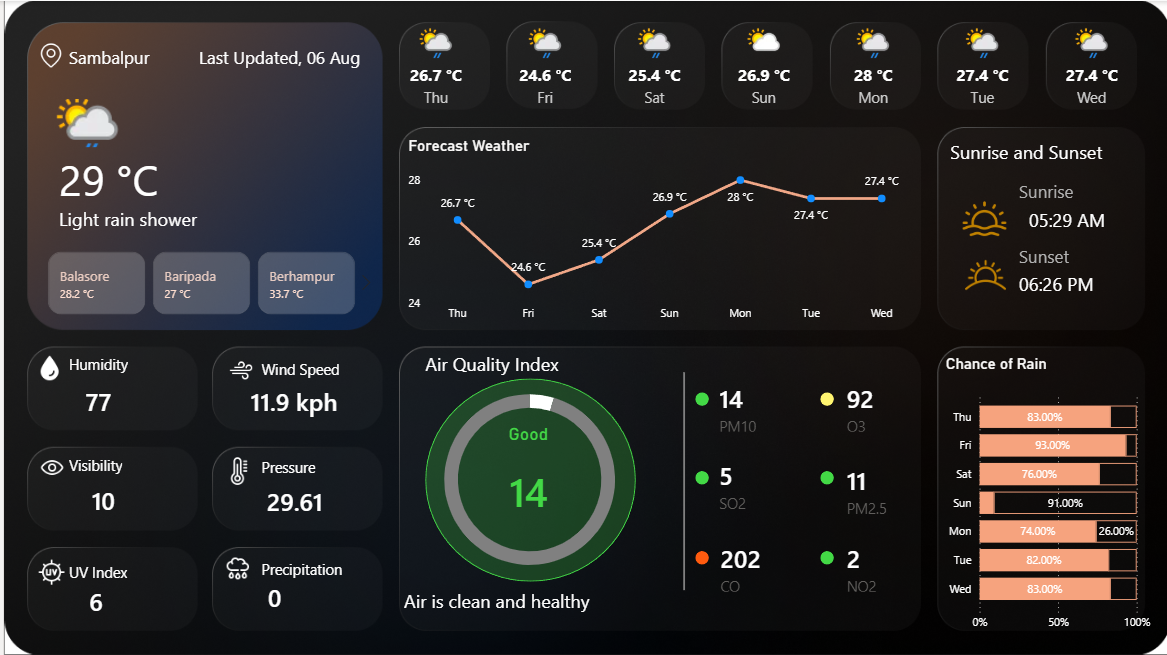

What the dashboard file says about the page in this screenshot:
{"tool":"powerbi","page":{"name":"Page 1","canvas":[1280,720],"ordinal":0},"visuals":[{"type":"shape","box":[462.3,414.8,231.1,223],"z":0},{"type":"advancedSlicerVisual","fields":{"Values":["Locations.location.name"]},"box":[23.3,270.3,389.7,79.6],"z":1000},{"type":"shape","box":[60.4,120.8,170.2,149.6],"z":2000},{"type":"shape","box":[60.4,222.3,299.1,32.9],"z":3000},{"type":"shape","box":[196.2,45.3,194.9,32.9],"z":4000},{"type":"shape","box":[71.4,45.3,171.5,32.9],"z":5000},{"type":"image","box":[38.4,42.5,26.1,34.3],"z":6000},{"type":"cardVisual","fields":{"Data":["Min(Current_data.current.condition.icon)"]},"box":[23.3,90.6,133.1,87.8],"z":7000},{"type":"image","box":[38.4,495.4,28.8,32.9],"z":8000},{"type":"shape","box":[71.4,492.6,194.9,32.9],"z":9000},{"type":"image","box":[35.7,387,28.8,31.6],"z":10000},{"type":"shape","box":[71.4,381.5,194.9,32.9],"z":11000},{"type":"image","box":[37,610.6,30.2,32.9],"z":12000},{"type":"image","box":[247,388.3,26.1,34.3],"z":13000},{"type":"image","box":[242.9,500.9,30.2,30.2],"z":14000},{"type":"image","box":[241.5,606.5,30.2,32.9],"z":15000},{"type":"shape","box":[71.4,610.6,194.9,32.9],"z":16000},{"type":"shape","box":[282.7,606.5,194.9,32.9],"z":17000},{"type":"shape","box":[282.7,495.4,194.9,32.9],"z":18000},{"type":"shape","box":[282.7,387,194.9,32.9],"z":19000},{"type":"cardVisual","fields":{"Data":["Sum(Current_data.current.humidity)"]},"box":[60.4,403.4,102.9,70],"z":20000},{"type":"cardVisual","fields":{"Data":["Sum(Current_data.current.vis_km)"]},"box":[67.2,516,91.9,60.4],"z":21000},{"type":"cardVisual","fields":{"Data":["Sum(Current_data.current.uv)"]},"box":[64.5,627.1,91.9,60.4],"z":22000},{"type":"cardVisual","fields":{"Data":["_measures.Wind_Speed"]},"box":[241.5,395.2,164.7,86.4],"z":23000},{"type":"cardVisual","fields":{"Data":["Sum(Current_data.current.precip_in)"]},"box":[260.7,623,91.9,60.4],"z":24000},{"type":"cardVisual","fields":{"Data":["Sum(Current_data.current.pressure_in)"]},"box":[258.7,515.9,130.8,64.7],"z":25000},{"type":"advancedSlicerVisual","fields":{"Values":["Forcast_day.Day_Name"]},"box":[413.1,18,845.9,116.4],"z":26000},{"type":"lineChart","title":"Forecast Weather","fields":{"Y":["Sum(Forcast_day.forecast.forecastday.day.avgtemp_c)"],"Category":["Forcast_day.Day_Name"]},"box":[439.3,147.5,560.7,213.1],"z":27000},{"type":"shape","box":[1039.3,147.5,194.9,32.9],"z":28000},{"type":"shape","box":[1124.6,209.8,109.8,60.7],"z":29000},{"type":"shape","box":[1114.8,280.3,109.8,60.7],"z":30000},{"type":"shape","box":[1114.8,178.7,109.8,60.7],"z":31000},{"type":"shape","box":[1114.8,249.2,109.8,60.7],"z":32000},{"type":"image","box":[1039.3,214.8,75.4,47.5],"z":33000},{"type":"image","box":[1029.5,270.5,96.7,60.7],"z":34000},{"type":"hundredPercentStackedBarChart","title":"Chance of Rain ","fields":{"Y":["Sum(Forcast_day.forecast.forecastday.day.daily_chance_of_rain)","_measures.left_value_rain"],"Category":["Forcast_day.Day_Name"]},"box":[1029.5,388.5,234.4,311.5],"z":35000},{"type":"shape","box":[462.3,382,194.9,32.9],"z":36000},{"type":"cardVisual","fields":{"Data":["Sum(Current_data.current.air_quality.pm10)"]},"box":[755.7,404.9,103.3,85.2],"z":37000},{"type":"cardVisual","fields":{"Data":["Sum(Current_data.current.air_quality.o3)"]},"box":[896.7,404.9,103.3,85.2],"z":38000},{"type":"cardVisual","fields":{"Data":["Sum(Current_data.current.air_quality.so2)"]},"box":[755.7,490.2,104.9,85.2],"z":39000},{"type":"cardVisual","fields":{"Data":["Sum(Current_data.current.air_quality.pm2_5)"]},"box":[896.7,495.1,103.3,85.2],"z":40000},{"type":"cardVisual","fields":{"Data":["Sum(Current_data.current.air_quality.co)"]},"box":[757.4,580.3,103.3,85.2],"z":41000},{"type":"cardVisual","fields":{"Data":["Sum(Current_data.current.air_quality.no2)"]},"box":[896.7,580.3,103.3,85.2],"z":42000},{"type":"shape","box":[759,603.3,15,15],"z":43000},{"type":"shape","box":[759,429.5,15,15],"z":44000},{"type":"shape","box":[759,516.4,15,15],"z":45000},{"type":"shape","box":[896.7,429.5,15,15],"z":46000},{"type":"shape","box":[896.7,516.4,15,15],"z":47000},{"type":"shape","box":[896.7,603.3,15,15],"z":48000},{"type":"shape","box":[657.4,408.2,178.7,239.3],"z":49000},{"type":"cardVisual","fields":{"Data":["Sum(Current_data.current.air_quality.pm10)"]},"box":[508.2,463.9,136.1,113.1],"z":50000},{"type":"donutChart","fields":{"Y":["Sum(Current_data.current.air_quality.pm10)","CO_colour.left_value_pm10"]},"box":[408.2,403.3,339.3,244.3],"z":51000},{"type":"shape","box":[439.3,637.7,334.4,39.3],"z":51001}]}

Visuals, with their boxes in screenshot pixels (x1, y1, x2, y2), scaled from the page's 1280x720 canvas onto the 1167x655 screenshot:
shape: x1=421 y1=377 x2=632 y2=580
advancedSlicerVisual - Locations.location.name: x1=21 y1=246 x2=377 y2=318
shape: x1=55 y1=110 x2=210 y2=246
shape: x1=55 y1=202 x2=328 y2=232
shape: x1=179 y1=41 x2=357 y2=71
shape: x1=65 y1=41 x2=221 y2=71
image: x1=35 y1=39 x2=59 y2=70
cardVisual - Min(Current_data.current.condition.icon): x1=21 y1=82 x2=143 y2=162
image: x1=35 y1=451 x2=61 y2=481
shape: x1=65 y1=448 x2=243 y2=478
image: x1=33 y1=352 x2=59 y2=381
shape: x1=65 y1=347 x2=243 y2=377
image: x1=34 y1=555 x2=61 y2=585
image: x1=225 y1=353 x2=249 y2=384
image: x1=221 y1=456 x2=249 y2=483
image: x1=220 y1=552 x2=248 y2=582
shape: x1=65 y1=555 x2=243 y2=585
shape: x1=258 y1=552 x2=435 y2=582
shape: x1=258 y1=451 x2=435 y2=481
shape: x1=258 y1=352 x2=435 y2=382
cardVisual - Sum(Current_data.current.humidity): x1=55 y1=367 x2=149 y2=431
cardVisual - Sum(Current_data.current.vis_km): x1=61 y1=469 x2=145 y2=524
cardVisual - Sum(Current_data.current.uv): x1=59 y1=570 x2=143 y2=625
cardVisual - _measures.Wind_Speed: x1=220 y1=360 x2=370 y2=438
cardVisual - Sum(Current_data.current.precip_in): x1=238 y1=567 x2=321 y2=622
cardVisual - Sum(Current_data.current.pressure_in): x1=236 y1=469 x2=355 y2=528
advancedSlicerVisual - Forcast_day.Day_Name: x1=377 y1=16 x2=1148 y2=122
"Forecast Weather" lineChart: x1=401 y1=134 x2=912 y2=328
shape: x1=948 y1=134 x2=1125 y2=164
shape: x1=1025 y1=191 x2=1125 y2=246
shape: x1=1016 y1=255 x2=1116 y2=310
shape: x1=1016 y1=163 x2=1116 y2=218
shape: x1=1016 y1=227 x2=1116 y2=282
image: x1=948 y1=195 x2=1016 y2=239
image: x1=939 y1=246 x2=1027 y2=301
"Chance of Rain " hundredPercentStackedBarChart: x1=939 y1=353 x2=1152 y2=637
shape: x1=421 y1=348 x2=599 y2=377
cardVisual - Sum(Current_data.current.air_quality.pm10): x1=689 y1=368 x2=783 y2=446
cardVisual - Sum(Current_data.current.air_quality.o3): x1=818 y1=368 x2=912 y2=446
cardVisual - Sum(Current_data.current.air_quality.so2): x1=689 y1=446 x2=785 y2=523
cardVisual - Sum(Current_data.current.air_quality.pm2_5): x1=818 y1=450 x2=912 y2=528
cardVisual - Sum(Current_data.current.air_quality.co): x1=691 y1=528 x2=785 y2=605
cardVisual - Sum(Current_data.current.air_quality.no2): x1=818 y1=528 x2=912 y2=605
shape: x1=692 y1=549 x2=706 y2=562
shape: x1=692 y1=391 x2=706 y2=404
shape: x1=692 y1=470 x2=706 y2=483
shape: x1=818 y1=391 x2=831 y2=404
shape: x1=818 y1=470 x2=831 y2=483
shape: x1=818 y1=549 x2=831 y2=562
shape: x1=599 y1=371 x2=762 y2=589
cardVisual - Sum(Current_data.current.air_quality.pm10): x1=463 y1=422 x2=587 y2=525
donutChart - Sum(Current_data.current.air_quality.pm10) x CO_colour.left_value_pm10: x1=372 y1=367 x2=682 y2=589
shape: x1=401 y1=580 x2=705 y2=616
